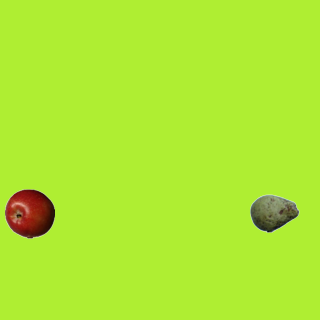Apple Braeburn: (4, 188, 54, 238)
Pear Stone: (249, 188, 299, 238)
